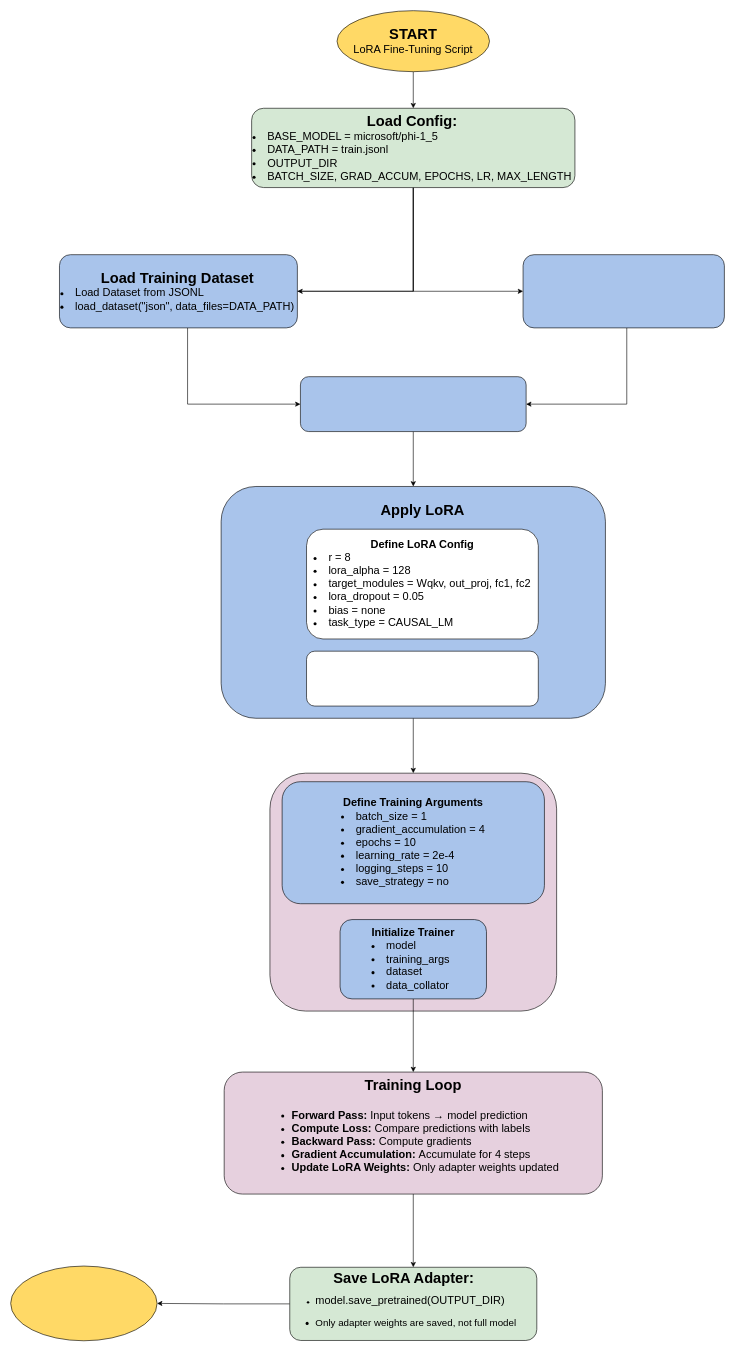
The diagram is 735 pixels wide and 1352 high, and some of its shapes have lost their labels. The centre of each missing label's shape, as x and y in pixels:
"Attach LoRA Adapters to Model Only LoRA layers are trainable" goes at [422,678].
"END End Fine-Tuning Process" goes at [83,1303].
"Load Tokenizer & Base Model" goes at [623,291].
"Tokenize Dataset: Prepare inputs and labels for fine-tunning" goes at [413,404].
